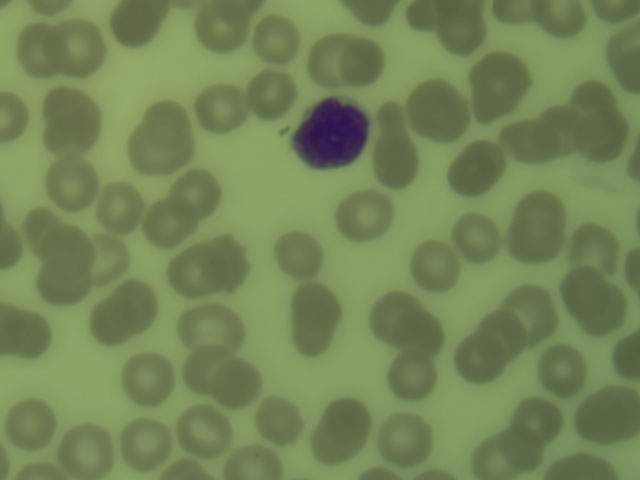RBC: (408, 80, 471, 138), (128, 127, 198, 175), (43, 158, 103, 212), (167, 167, 230, 218), (173, 307, 246, 351), (48, 23, 105, 78), (508, 283, 560, 342), (38, 111, 101, 159), (59, 426, 114, 479), (338, 191, 397, 240), (170, 248, 223, 302), (270, 234, 328, 282), (122, 355, 180, 403), (370, 137, 423, 189), (407, 240, 462, 290), (138, 100, 195, 148), (473, 310, 525, 362), (370, 286, 423, 337), (20, 21, 65, 80), (205, 235, 251, 292), (506, 221, 564, 266), (454, 215, 508, 263), (538, 347, 588, 398), (281, 316, 339, 359), (468, 71, 521, 118), (570, 228, 623, 275), (45, 86, 107, 126), (100, 186, 151, 234), (214, 358, 267, 404), (178, 404, 227, 453), (384, 416, 435, 463), (146, 202, 199, 247), (32, 262, 91, 302), (454, 334, 502, 383), (389, 353, 439, 400), (322, 398, 377, 440), (253, 391, 297, 443), (503, 119, 555, 163), (20, 209, 67, 257), (311, 418, 364, 460), (513, 193, 570, 232), (599, 383, 640, 437), (125, 419, 173, 465), (397, 313, 448, 356), (513, 394, 560, 440), (8, 399, 56, 444), (252, 68, 297, 116), (115, 280, 157, 331), (224, 445, 285, 480), (184, 348, 236, 389), (294, 285, 342, 329), (344, 40, 388, 87), (196, 9, 249, 48), (559, 267, 607, 310), (580, 289, 623, 337), (485, 56, 533, 98), (19, 313, 59, 363), (546, 453, 620, 480), (254, 15, 298, 60), (467, 438, 514, 480), (438, 16, 486, 57), (537, 103, 578, 151), (587, 109, 627, 158), (85, 242, 130, 285), (576, 397, 619, 442), (203, 83, 245, 128), (47, 229, 94, 269), (304, 38, 343, 86), (111, 4, 156, 45), (449, 153, 490, 198), (505, 424, 546, 469), (533, 2, 586, 36), (374, 102, 413, 145), (570, 80, 613, 119), (91, 305, 134, 343), (605, 24, 640, 70), (466, 142, 508, 179), (1, 89, 26, 142), (613, 332, 640, 381), (432, 1, 485, 25), (1, 219, 23, 276), (345, 1, 392, 23), (1, 307, 22, 353), (24, 1, 78, 18)
WBC: (292, 98, 377, 173)
